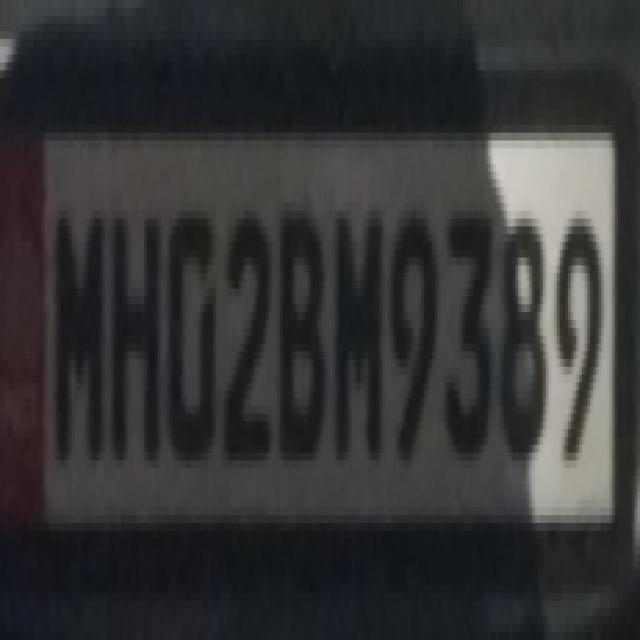0: (163, 202, 220, 470)
3: (442, 188, 500, 464)
8: (498, 208, 550, 459)
9: (391, 204, 442, 469), (556, 208, 607, 472)
B: (275, 202, 332, 474)
H: (111, 199, 160, 476)
M: (50, 195, 109, 486), (330, 203, 388, 462)
